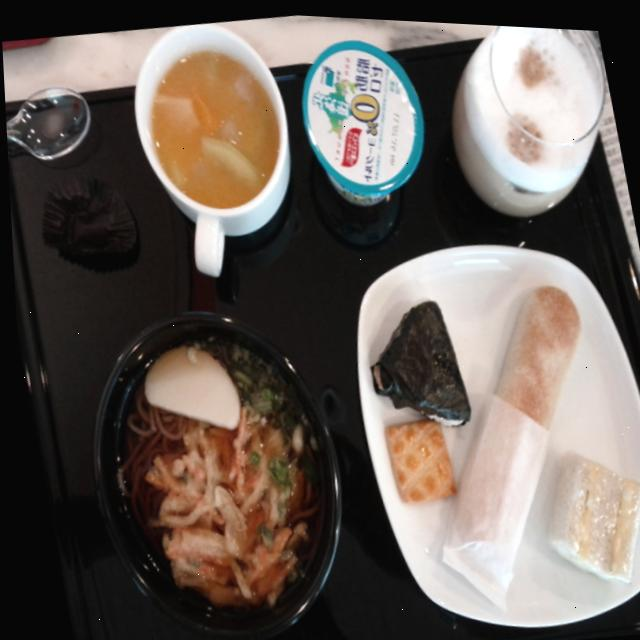米饭主食: (334, 281, 474, 423)
